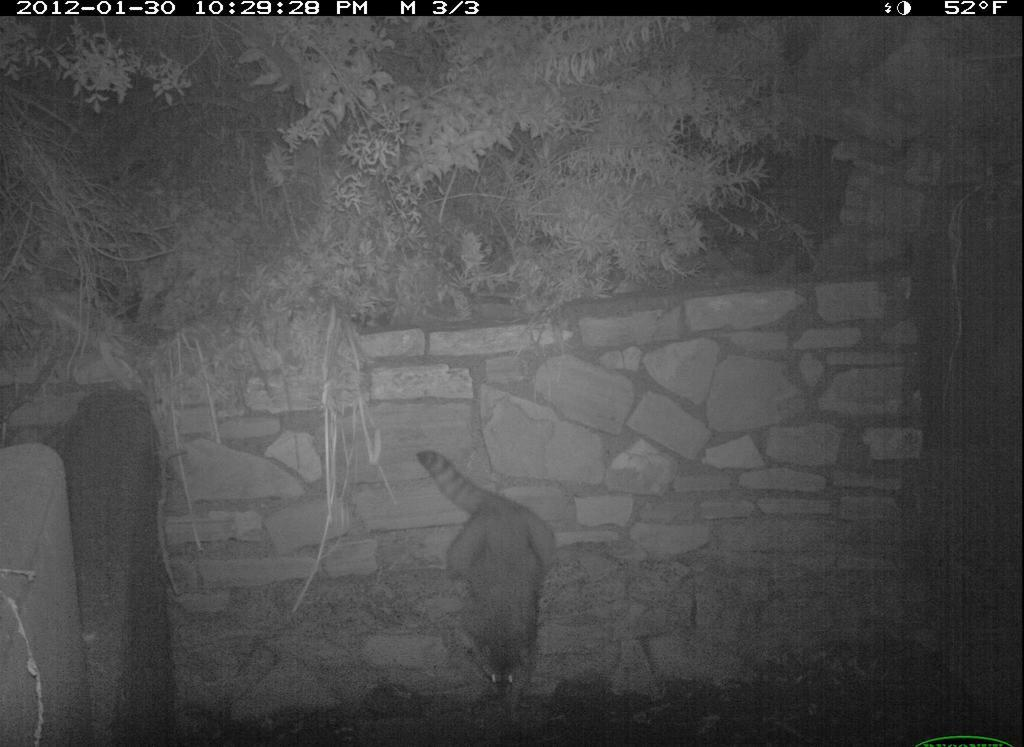raccoon: (419, 445, 566, 726)
